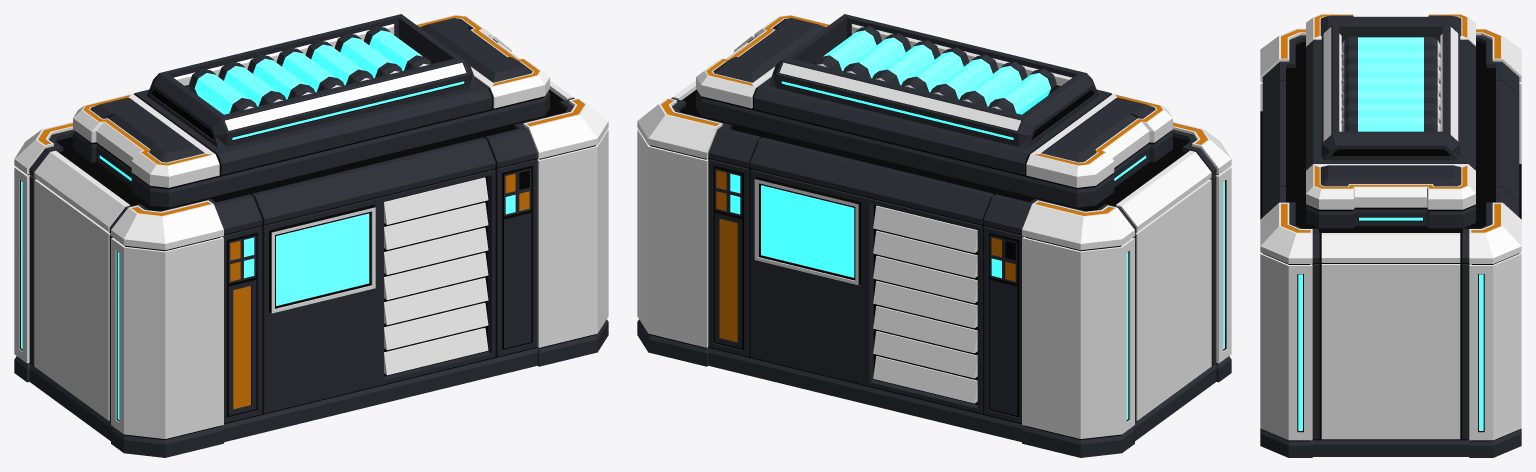
File: SM_Battery_T1.fbx
3 views of the same model, side by side, from view 1: azimuth 30°, elevation 25°; view 2: azimuth 150°, elevation 25°; view 3: azimuth 270°, elevation 25° (orthographic). The views are drawn at different scales.
Parts seen in each view (by area): view 1: SM_Battery_T1; view 2: SM_Battery_T1; view 3: SM_Battery_T1.
Boxes of the visible parts, box(x1,y1,x2,y2) form: SM_Battery_T1: box(14, 14, 608, 457); SM_Battery_T1: box(637, 14, 1231, 457); SM_Battery_T1: box(1260, 14, 1521, 457).
Size of the model in its own units: 200 by 114 by 100.
